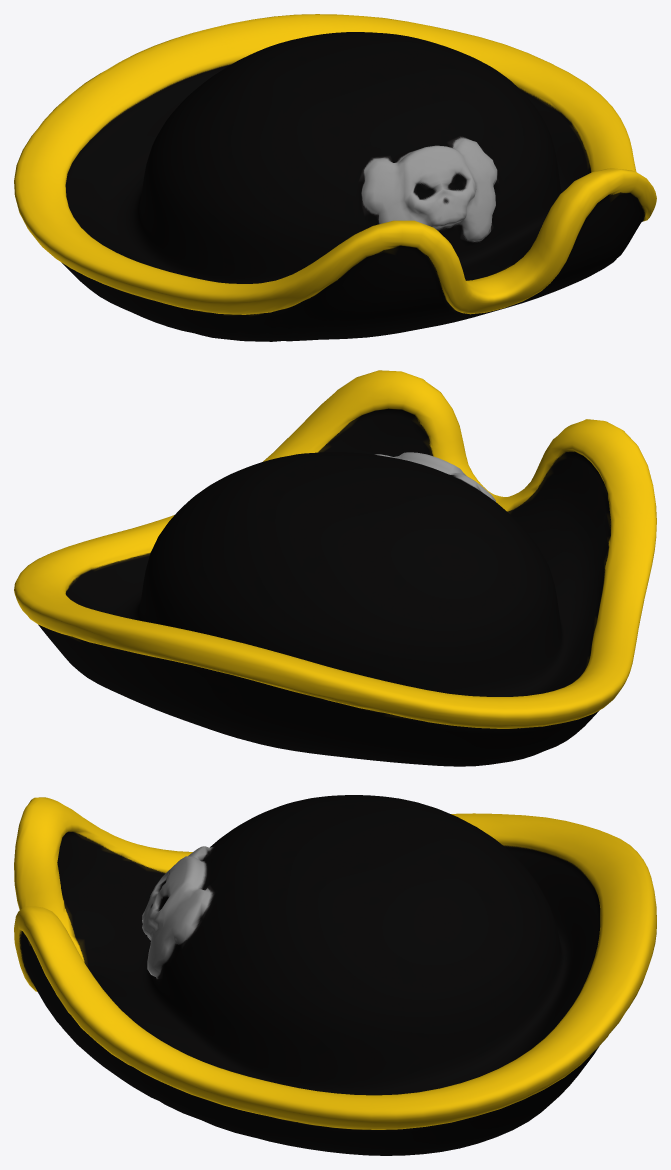
The model's file is PirateHat1.glb.
The picture shows the model from 3 angles, top to bottom: view 1: azimuth 30°, elevation 25°; view 2: azimuth 150°, elevation 25°; view 3: azimuth 270°, elevation 25°; orthographic projection. The views are drawn at different scales.
Parts seen in each view (by area): view 1: PirateHat1; view 2: PirateHat1; view 3: PirateHat1.
Part boxes in pixels (bbox=[...]): PirateHat1: bbox=[14, 14, 656, 341]; PirateHat1: bbox=[14, 370, 656, 766]; PirateHat1: bbox=[14, 795, 656, 1155].
Size of the model in its own units: 0.0191 by 0.00659 by 0.0175.
1 material, 1 textured.
